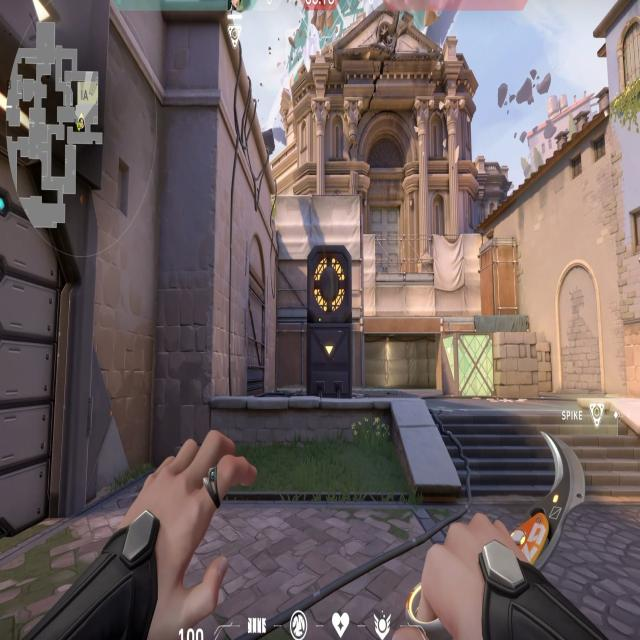A_Heaven_Box: (478, 234, 520, 317)
A_Heaven_Wall: (276, 196, 364, 326)
A_Hell: (356, 323, 456, 396)
A_Site_Box: (441, 326, 538, 402)
